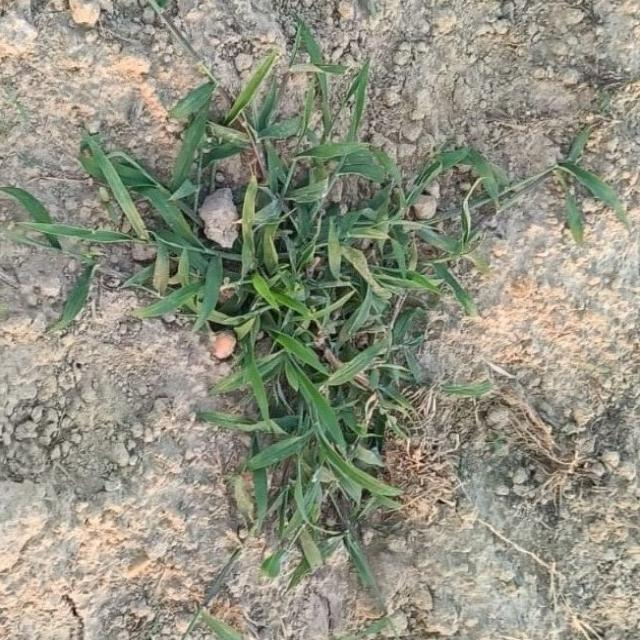weed: (0, 2, 629, 590)
